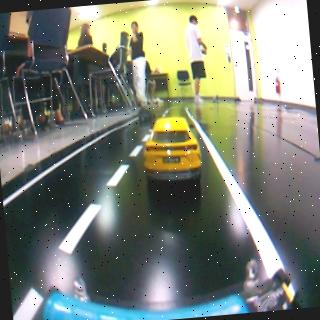car: (139, 115, 207, 186), (138, 106, 158, 122)
